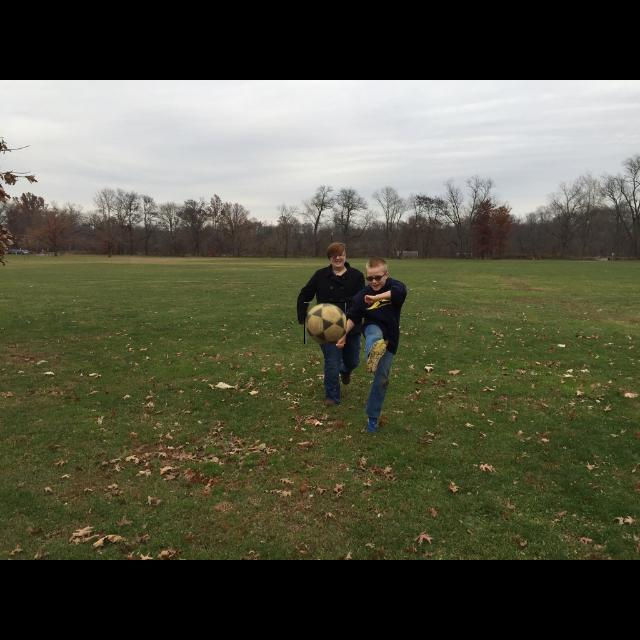Football: (304, 302, 346, 344)
